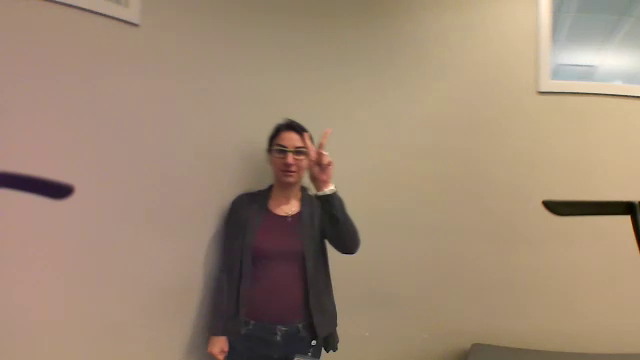peace: (293, 124, 340, 185)
